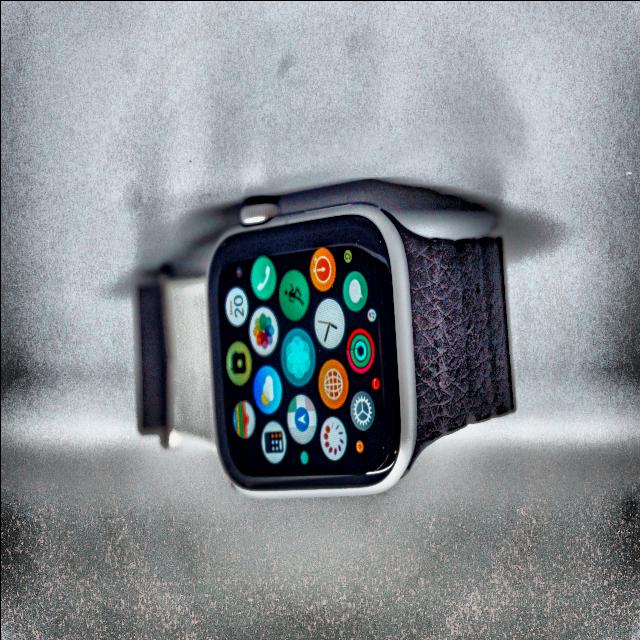Electronic watch: (137, 203, 513, 496)
